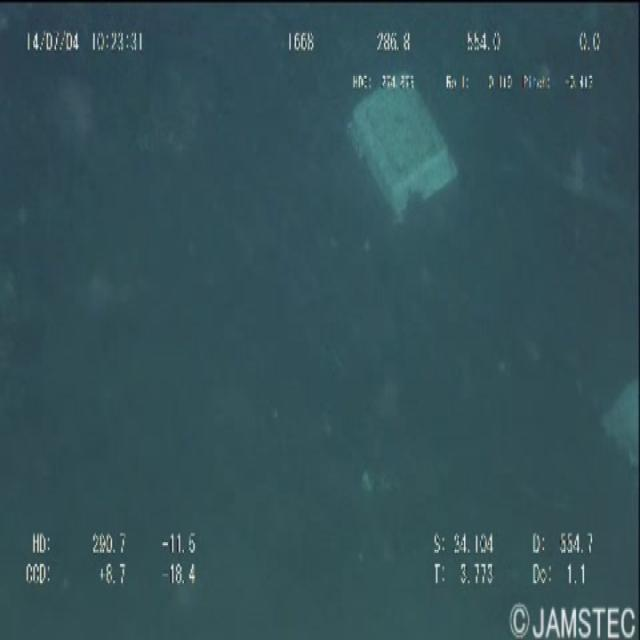Cutlery: (341, 75, 466, 219)
Plastic: (598, 336, 640, 490)
